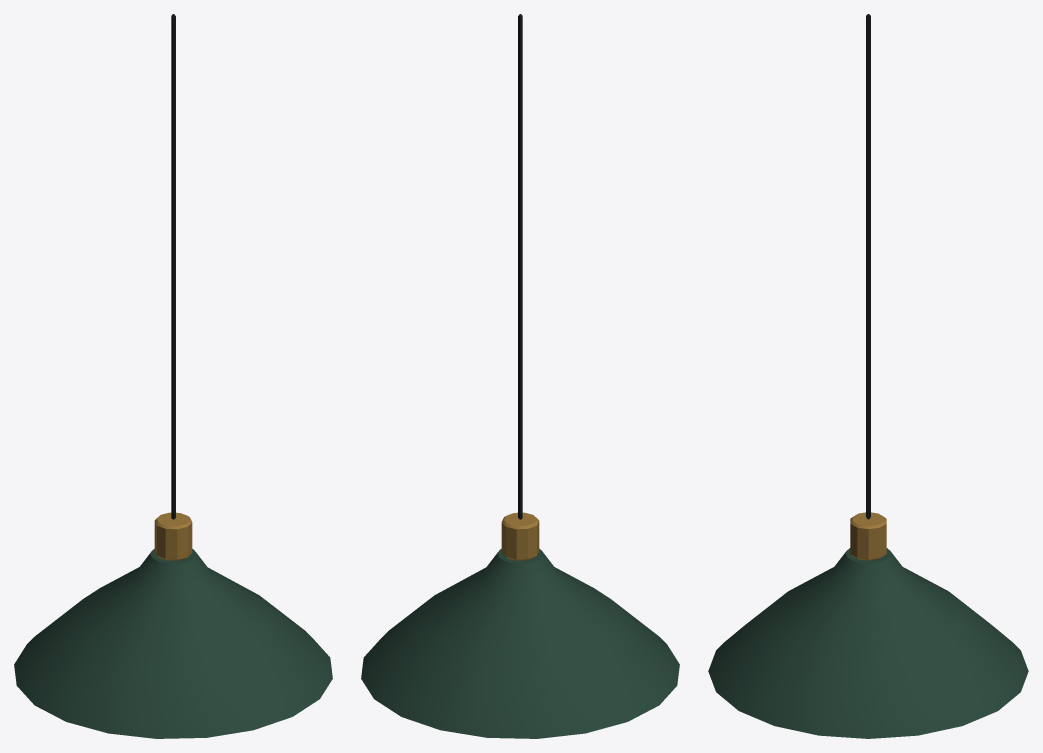
Rendered from mae_pendant_green.glb.
The picture shows the model from 3 angles, left to right: view 1: azimuth 30°, elevation 25°; view 2: azimuth 150°, elevation 25°; view 3: azimuth 270°, elevation 25°; orthographic projection.
Visible parts, largest first — view 1: mae_pendant_green; view 2: mae_pendant_green; view 3: mae_pendant_green.
Part boxes in pixels (<box>): mae_pendant_green: <box>14,14,332,738</box>; mae_pendant_green: <box>361,14,679,738</box>; mae_pendant_green: <box>708,14,1028,738</box>.
Bounding box in the file's own units: 0.42 × 0.95 × 0.42.
